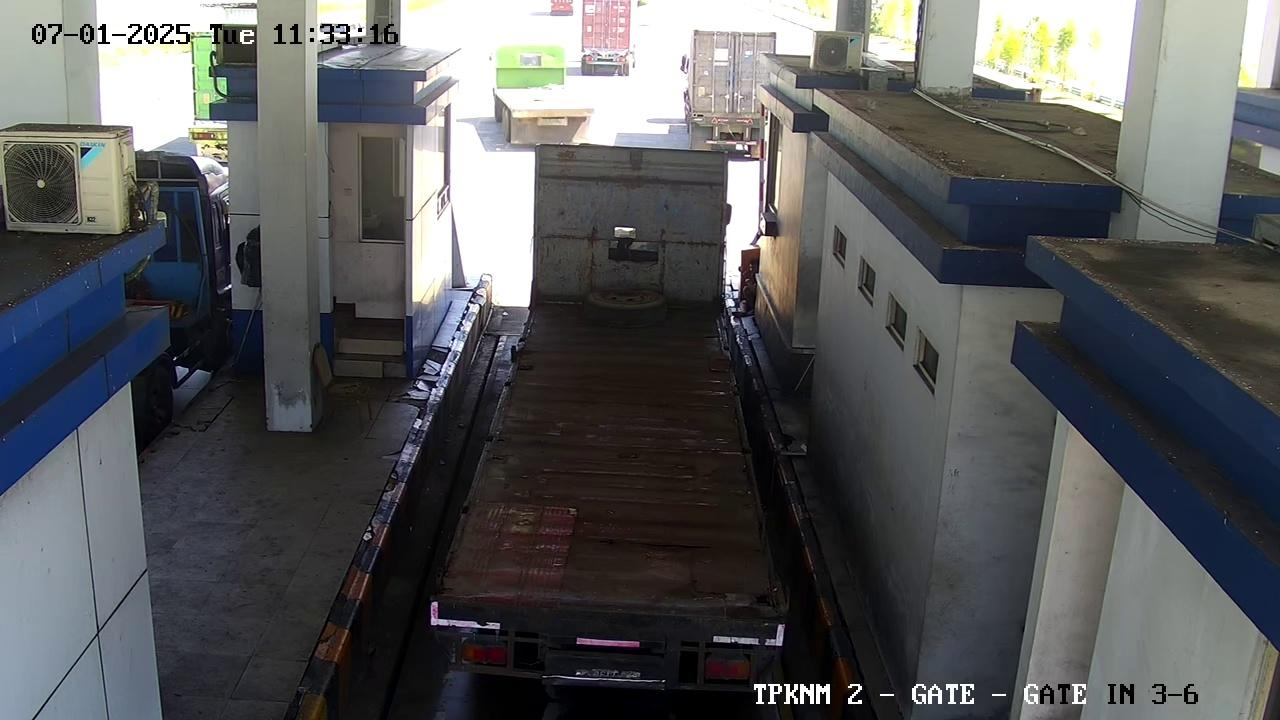plate_number: (541, 653, 659, 695)
